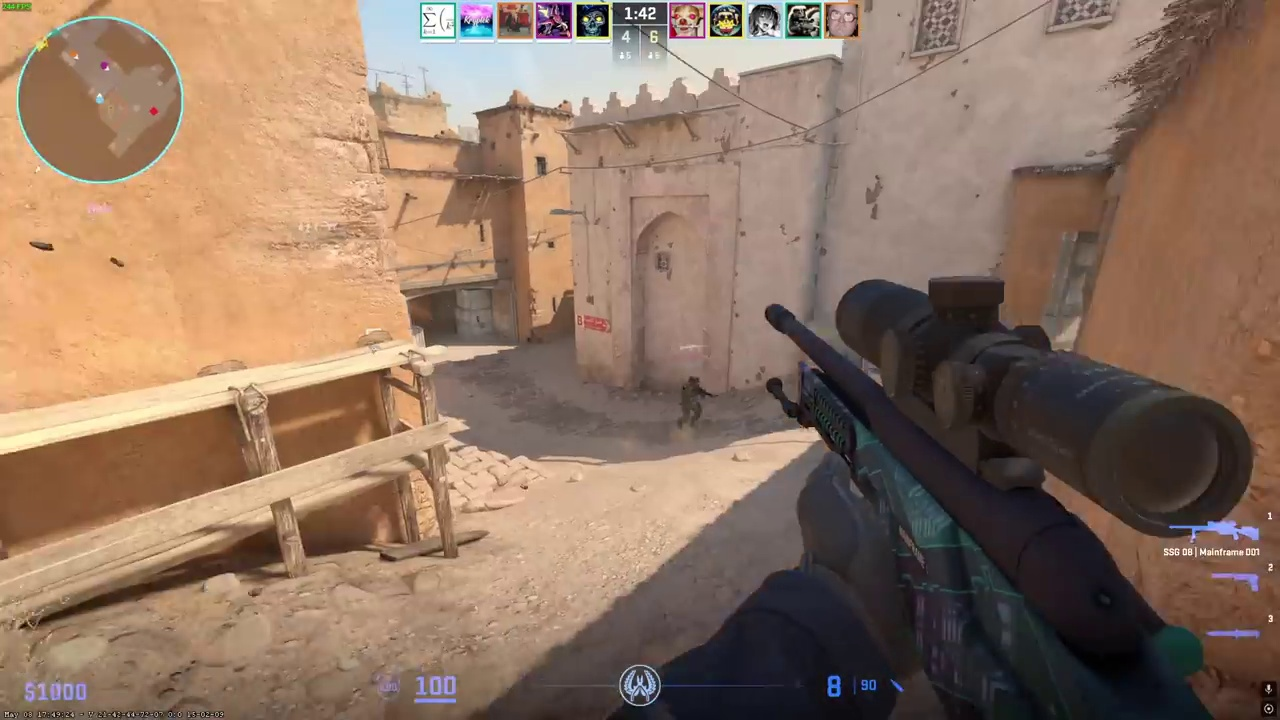CT: (678, 376, 705, 430)
